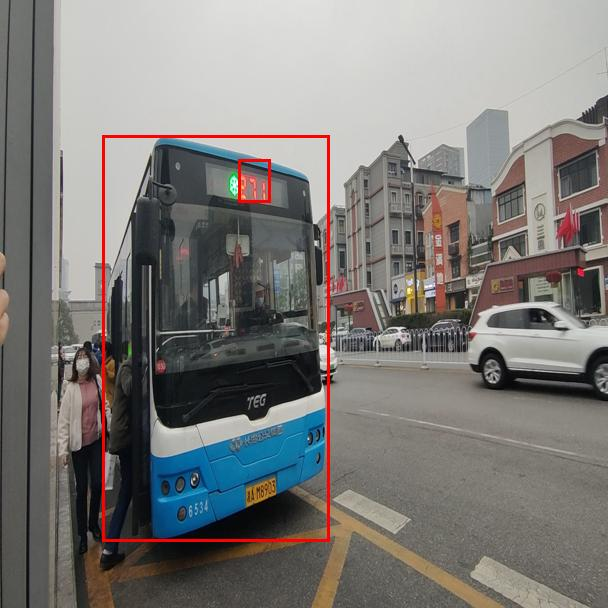bus: (102, 135, 329, 541)
screen: (238, 159, 270, 202)
